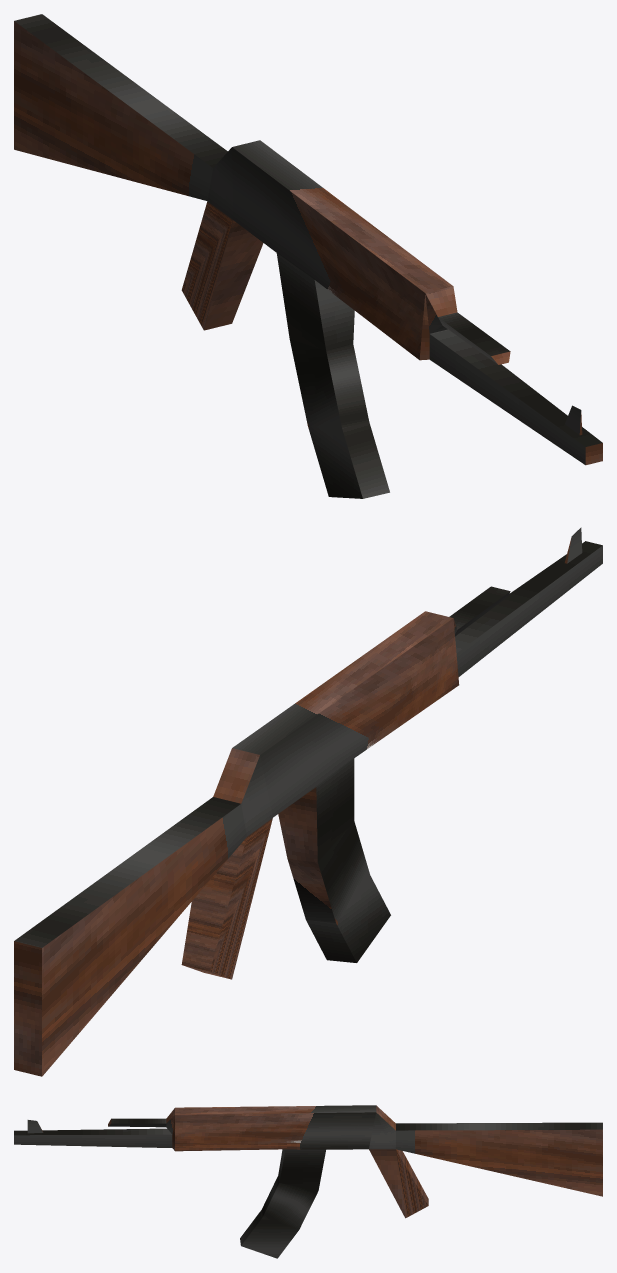
The picture shows the model from 3 angles, top to bottom: view 1: azimuth 30°, elevation 25°; view 2: azimuth 150°, elevation 25°; view 3: azimuth 270°, elevation 25°; orthographic projection. The views are drawn at different scales.
Parts seen in each view (by area): view 1: AK; view 2: AK; view 3: AK.
Boxes of the visible parts, x1=… form: AK: x1=14, y1=14, x2=602, y2=498; AK: x1=14, y1=527, x2=602, y2=1076; AK: x1=14, y1=1105, x2=602, y2=1258.
Size of the model in its own units: 107 by 29.4 by 4.72.
